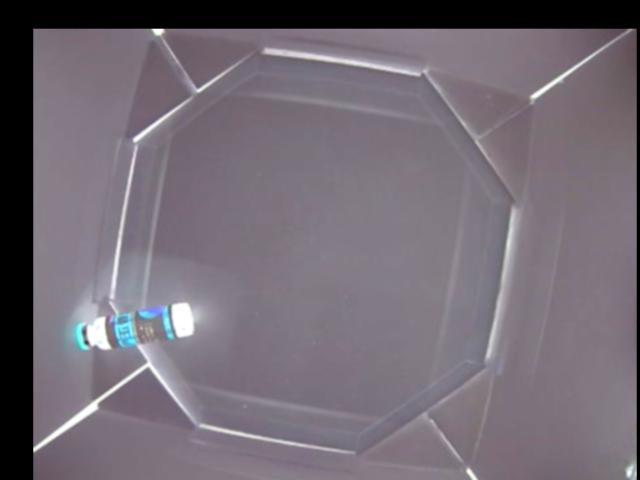Medicine: (74, 299, 192, 353)
